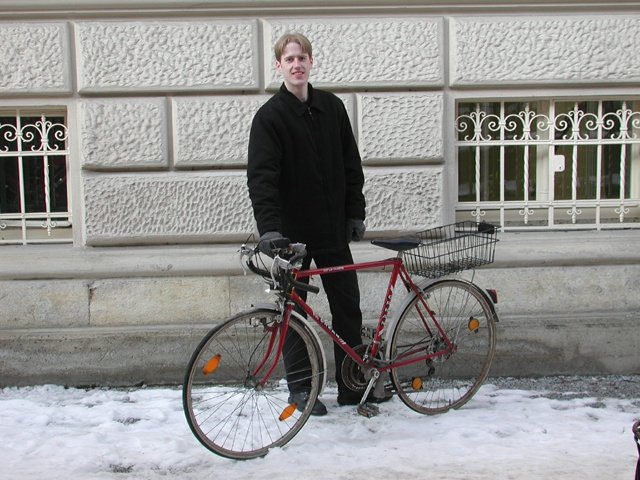person: (244, 33, 381, 407)
